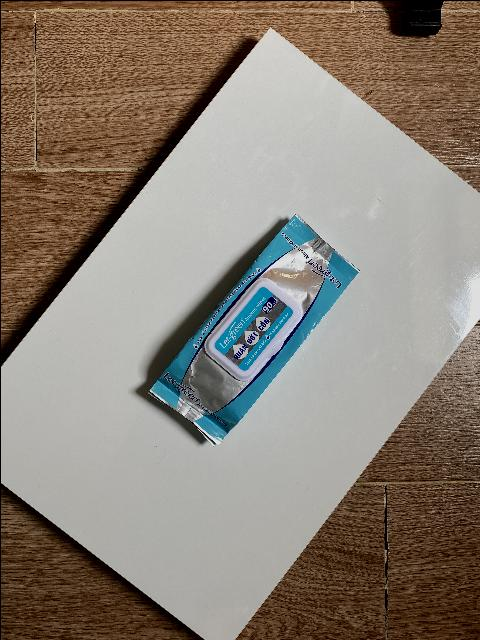Let-green_alcohol_wipes: (147, 213, 357, 440)
